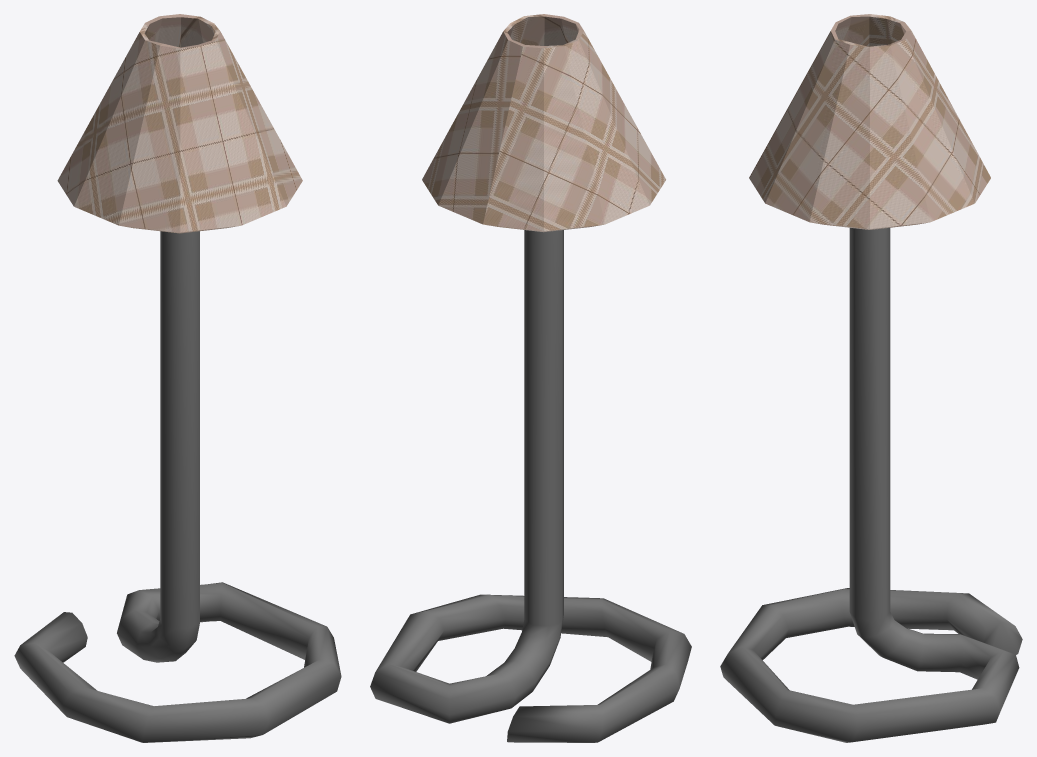
File: Lampara .fbx
3 renders of one model, left to right at view 1: azimuth 30°, elevation 25°; view 2: azimuth 150°, elevation 25°; view 3: azimuth 270°, elevation 25°, orthographic.
Visible parts, largest first — view 1: Cylinder, Cone; view 2: Cylinder, Cone; view 3: Cylinder, Cone.
Boxes of the visible parts, x1=… form: Cylinder: x1=14, y1=231, x2=341, y2=742; Cone: x1=57, y1=14, x2=302, y2=233; Cylinder: x1=370, y1=230, x2=691, y2=742; Cone: x1=422, y1=14, x2=665, y2=232; Cylinder: x1=720, y1=228, x2=1022, y2=742; Cone: x1=749, y1=14, x2=990, y2=229.
Size of the model in its own units: 455 by 1045 by 441.
2 materials, 1 textured.
